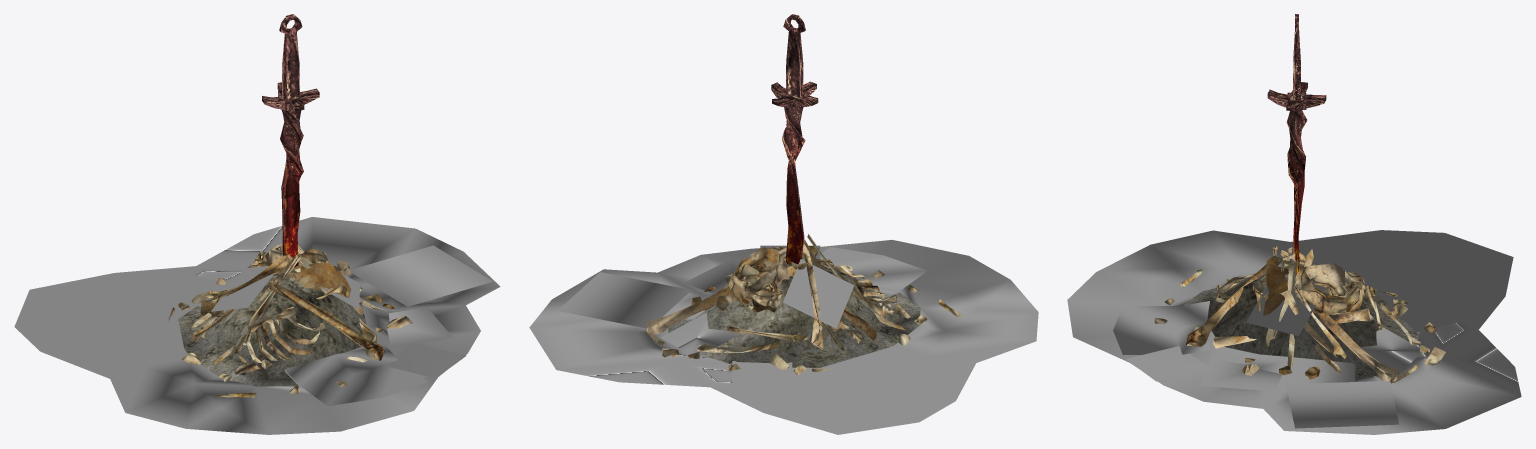
The model's file is sword3.fbx.
The picture shows the model from 3 angles, left to right: view 1: azimuth 30°, elevation 25°; view 2: azimuth 150°, elevation 25°; view 3: azimuth 270°, elevation 25°; orthographic projection. The views are drawn at different scales.
Visible parts, largest first — view 1: default; view 2: default; view 3: default.
Boxes of the visible parts, box(x1,y1,x2,y2) form: default: box(14, 14, 500, 434); default: box(529, 14, 1038, 434); default: box(1067, 14, 1521, 434).
Bounding box in the file's own units: 2.89 × 2.13 × 2.71.
